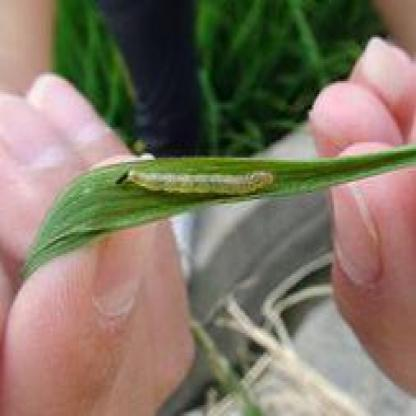leaf-folder: (113, 157, 275, 215)
